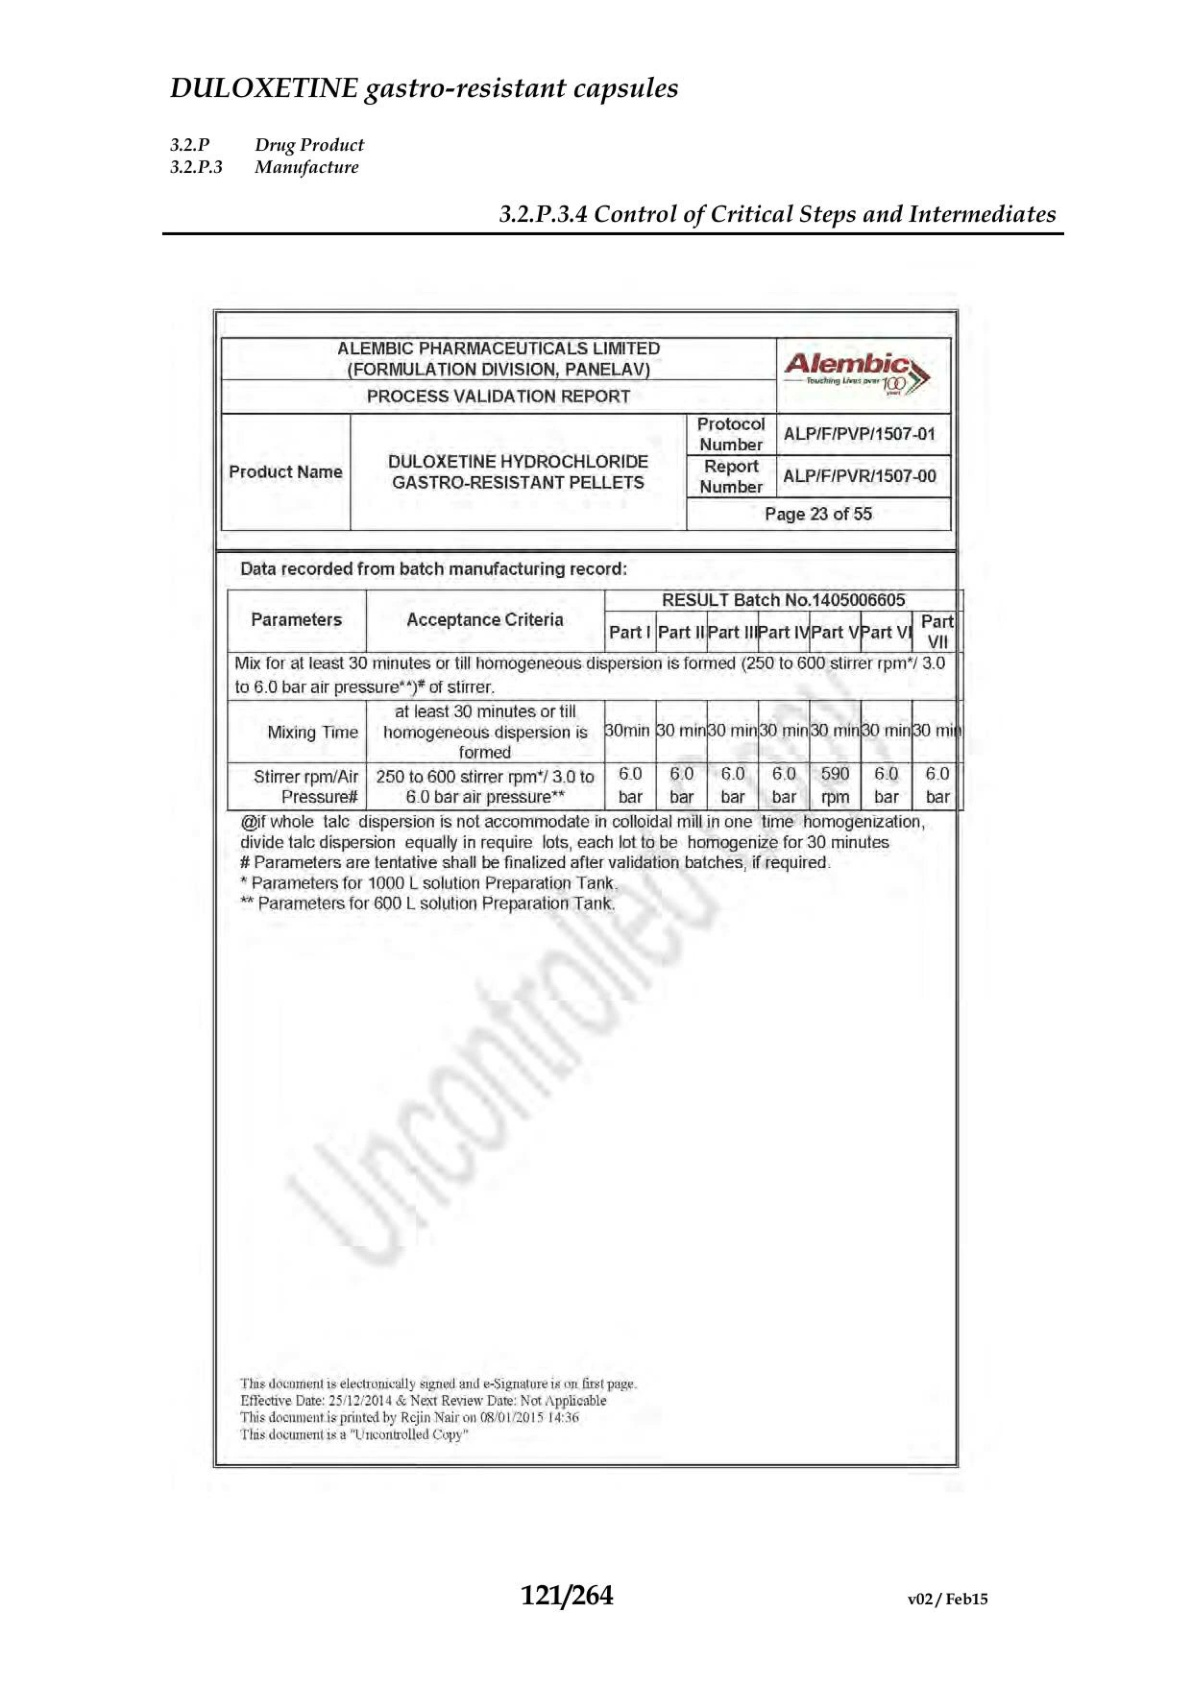merged_cells: (224, 587, 966, 813), (218, 335, 955, 533)
